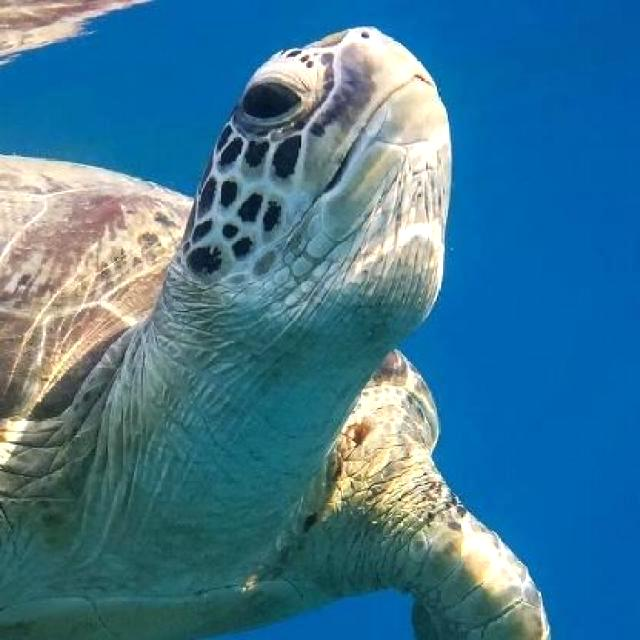Sea turtle: (0, 22, 560, 640)
